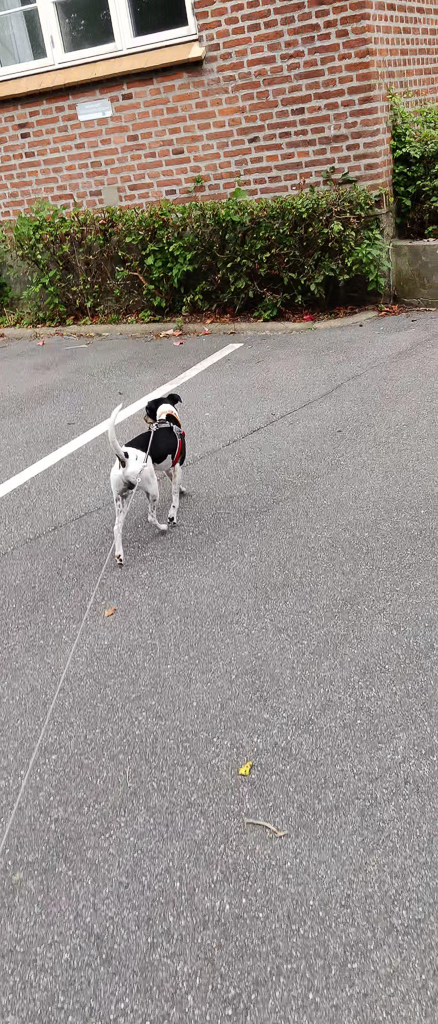Dog: (101, 390, 206, 573)
